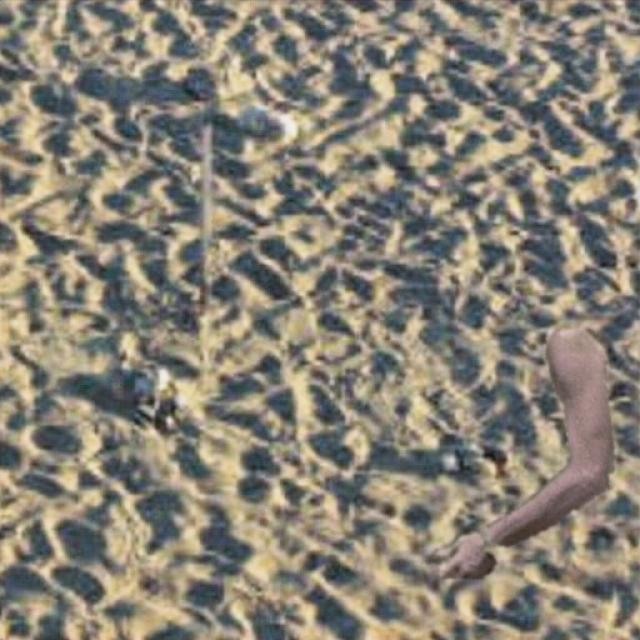Person in Rubble: (432, 328, 616, 578)
